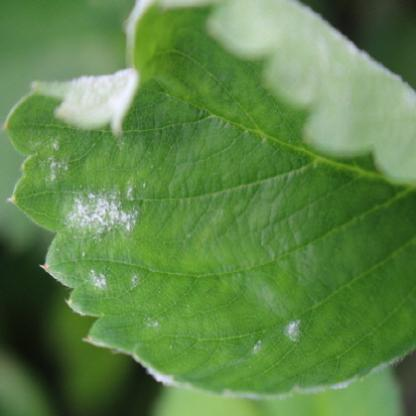Strawberry_Powdery_Mildew_Leaf: (4, 0, 416, 400)
